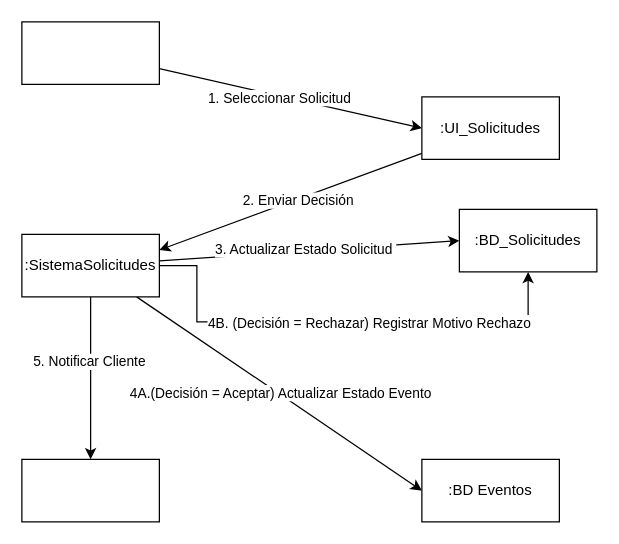
Some shapes in this 619 by 544 pixel diagram are drawn without their labels. Here are the shapes that lost their labels. From the top down, the centre of each, then its label:
point 90,52: :Administrador
point 90,490: :Notificación
